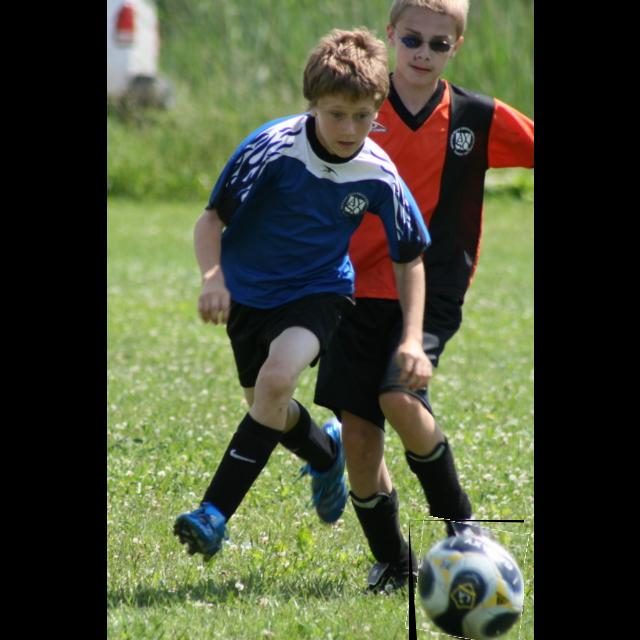Football: (409, 520, 524, 640)
